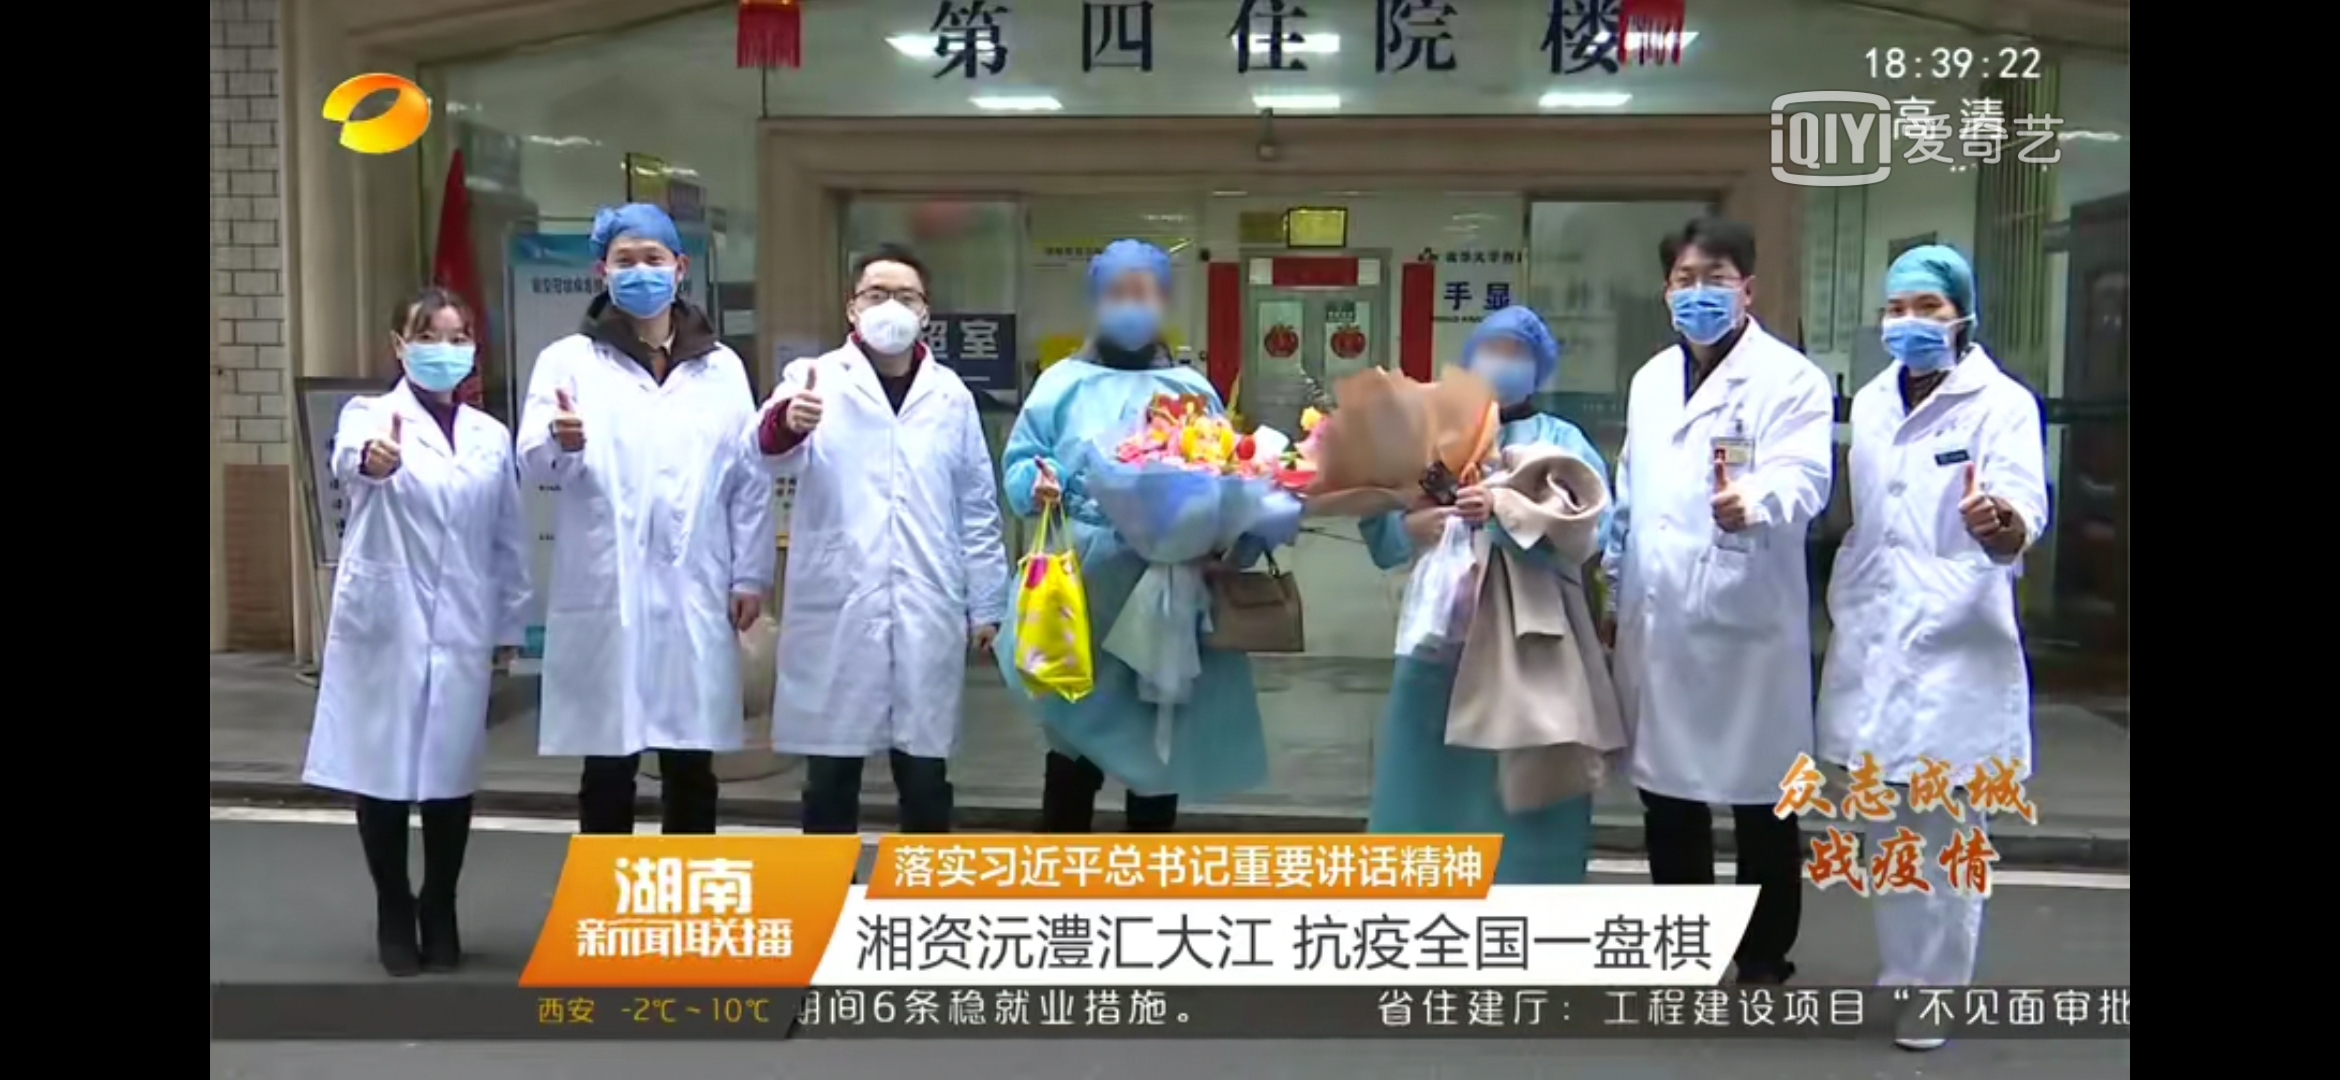correctlyWear: (1880, 289, 1971, 386), (592, 243, 692, 328), (1661, 258, 1751, 351), (848, 277, 934, 360), (390, 324, 478, 395), (1473, 331, 1542, 406), (1098, 273, 1160, 351)
